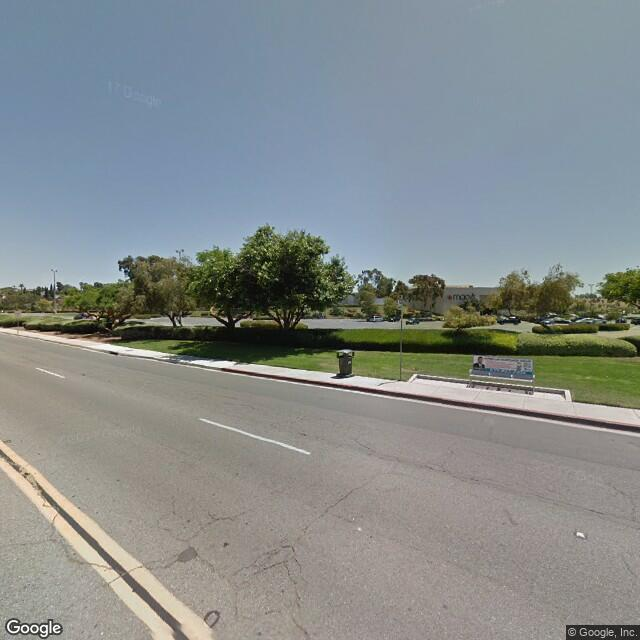litter: (572, 527, 588, 543)
